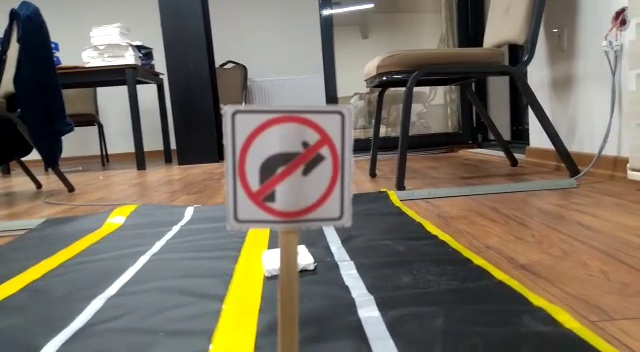saga_donulmez: (226, 109, 350, 220)
